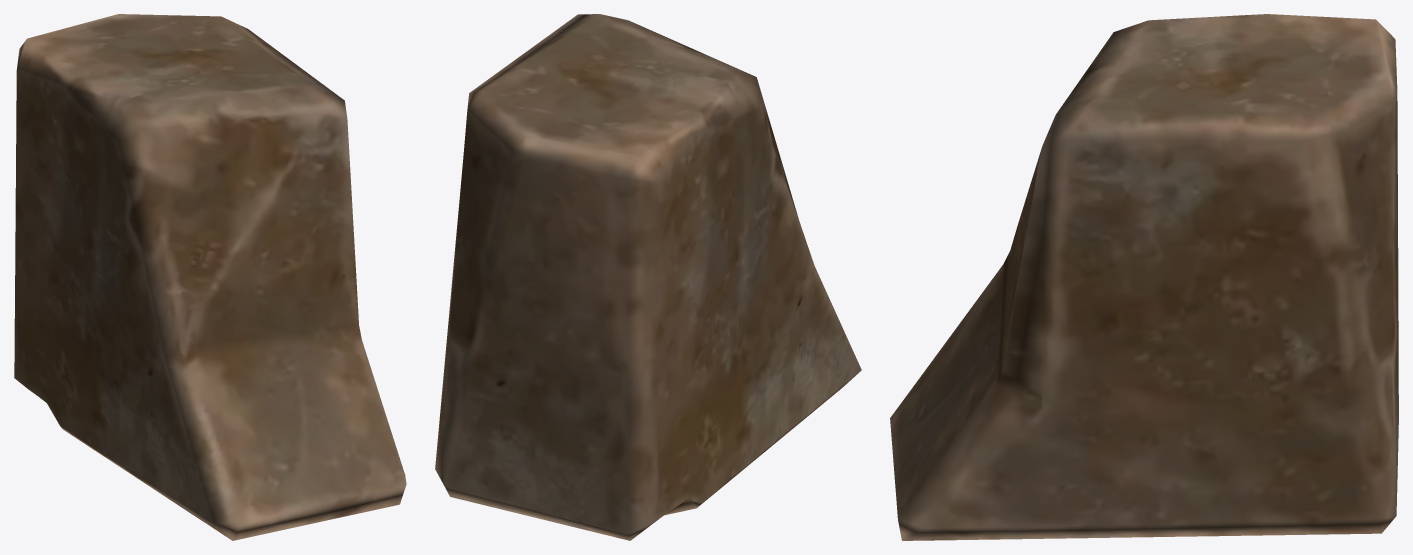
3 renders of one model, left to right at view 1: azimuth 30°, elevation 25°; view 2: azimuth 150°, elevation 25°; view 3: azimuth 270°, elevation 25°, orthographic. The views are drawn at different scales.
Parts seen in each view (by area): view 1: SM_DK_Brick_02_LOD0; view 2: SM_DK_Brick_02_LOD0; view 3: SM_DK_Brick_02_LOD0.
Part boxes in pixels (box(x1,y1,x2,y2)): SM_DK_Brick_02_LOD0: box(14, 14, 406, 540); SM_DK_Brick_02_LOD0: box(435, 14, 861, 540); SM_DK_Brick_02_LOD0: box(890, 14, 1398, 540).
Bounding box in the file's own units: 0.7847 × 1.34 × 1.45.
Materials: 1 (1 with a texture image).
